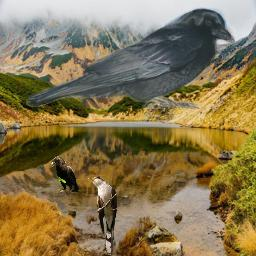Crow: (25, 7, 235, 109), (50, 156, 79, 195)
Cuckoo: (88, 176, 117, 256)
